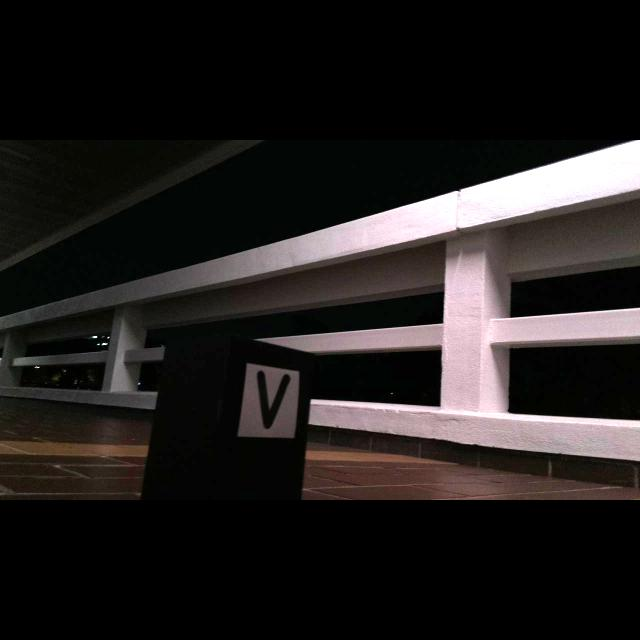V: (256, 371, 290, 429)
